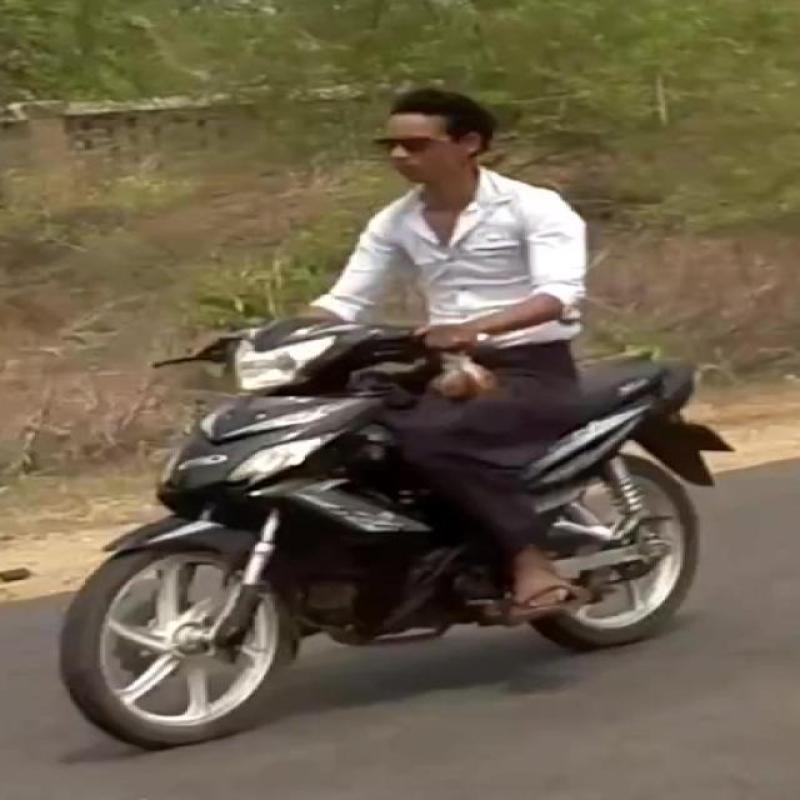nohelmet: (350, 80, 565, 212)
